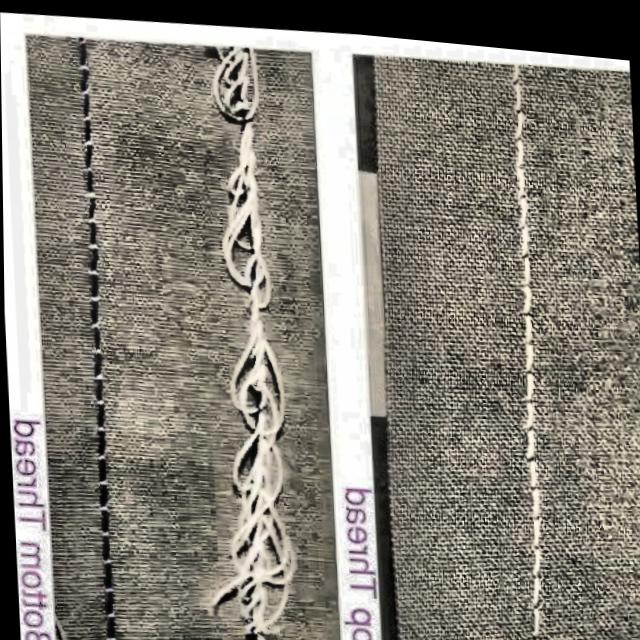Stitch: (205, 325, 312, 640), (194, 34, 305, 319)
